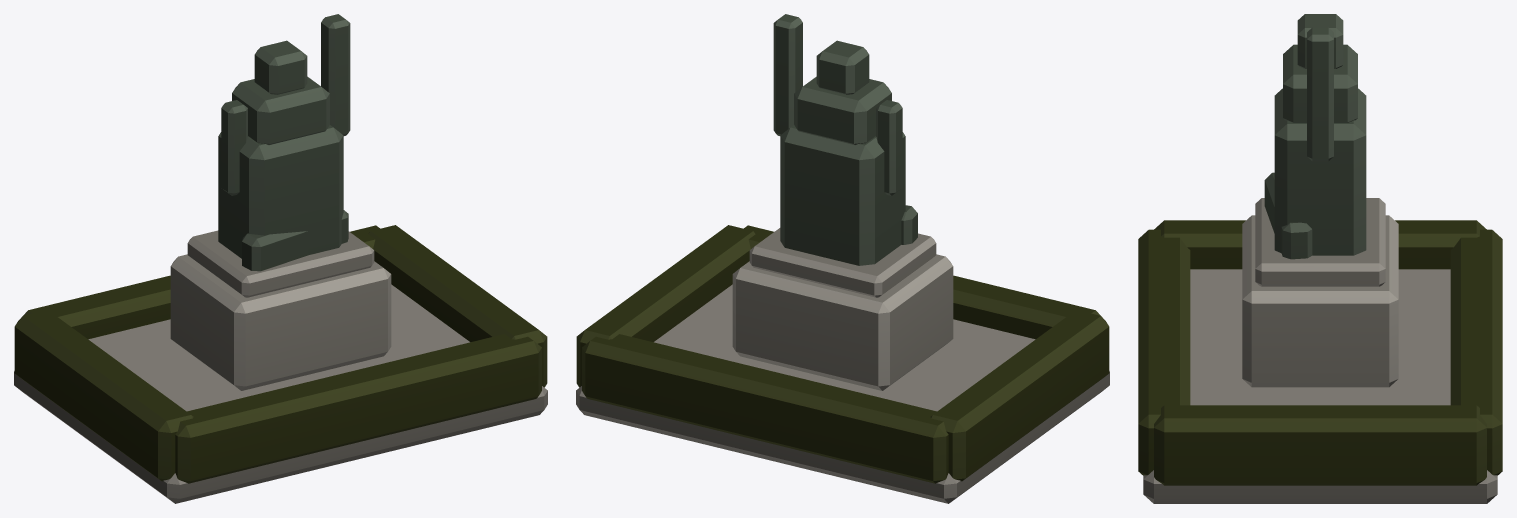
File: statue-v1.glb
3 renders of one model, left to right at view 1: azimuth 30°, elevation 25°; view 2: azimuth 150°, elevation 25°; view 3: azimuth 270°, elevation 25°, orthographic. The views are drawn at different scales.
Parts seen in each view (by area): view 1: statue-v1.lod0; view 2: statue-v1.lod0; view 3: statue-v1.lod0.
Part boxes in pixels (bbox=[...]): statue-v1.lod0: bbox=[14, 14, 547, 503]; statue-v1.lod0: bbox=[576, 14, 1109, 503]; statue-v1.lod0: bbox=[1138, 14, 1502, 503].
Bounding box in the file's own units: 4.7 × 4.29 × 3.5.
